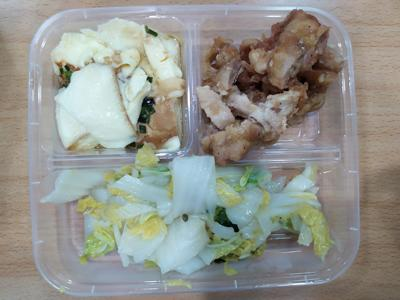df: (43, 24, 188, 154)
